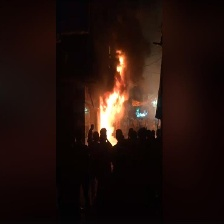fire: (98, 51, 129, 145)
smoke: (125, 16, 149, 79)
